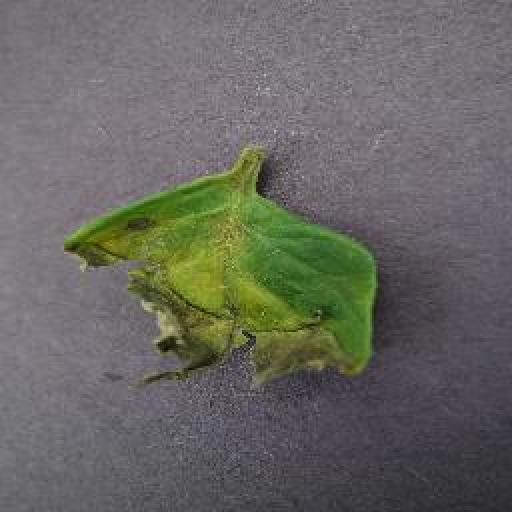disease_tomato: (64, 162, 386, 394)
